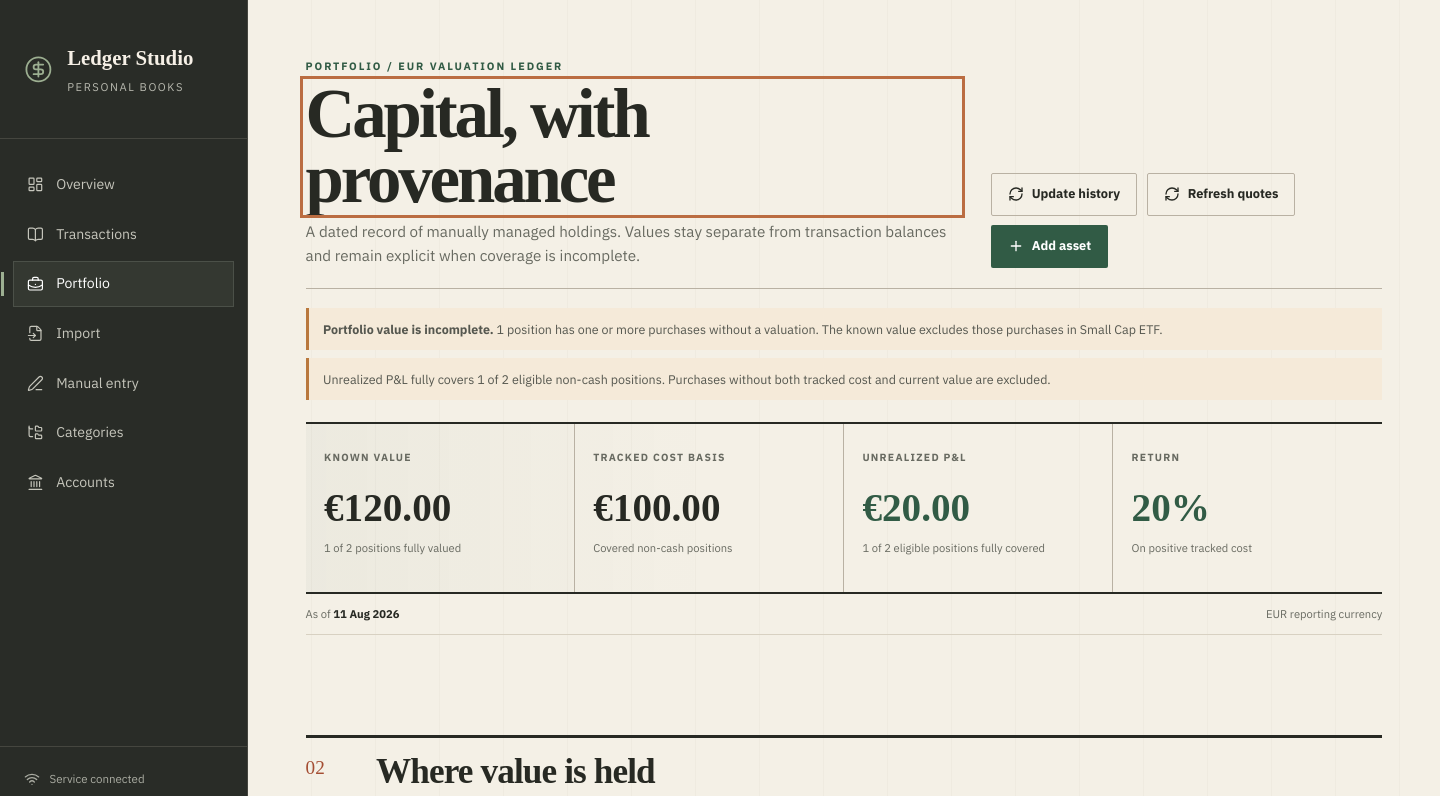
Test case: PortfolioPage › backfills missing monthly history in one signed batch
Check: the heading "Capital, with provenance" is shown, box x1=306 y1=76 x2=648 y2=217
Click the button "Update history" at (1064, 194), box x1=991 y1=173 x2=1137 y2=216
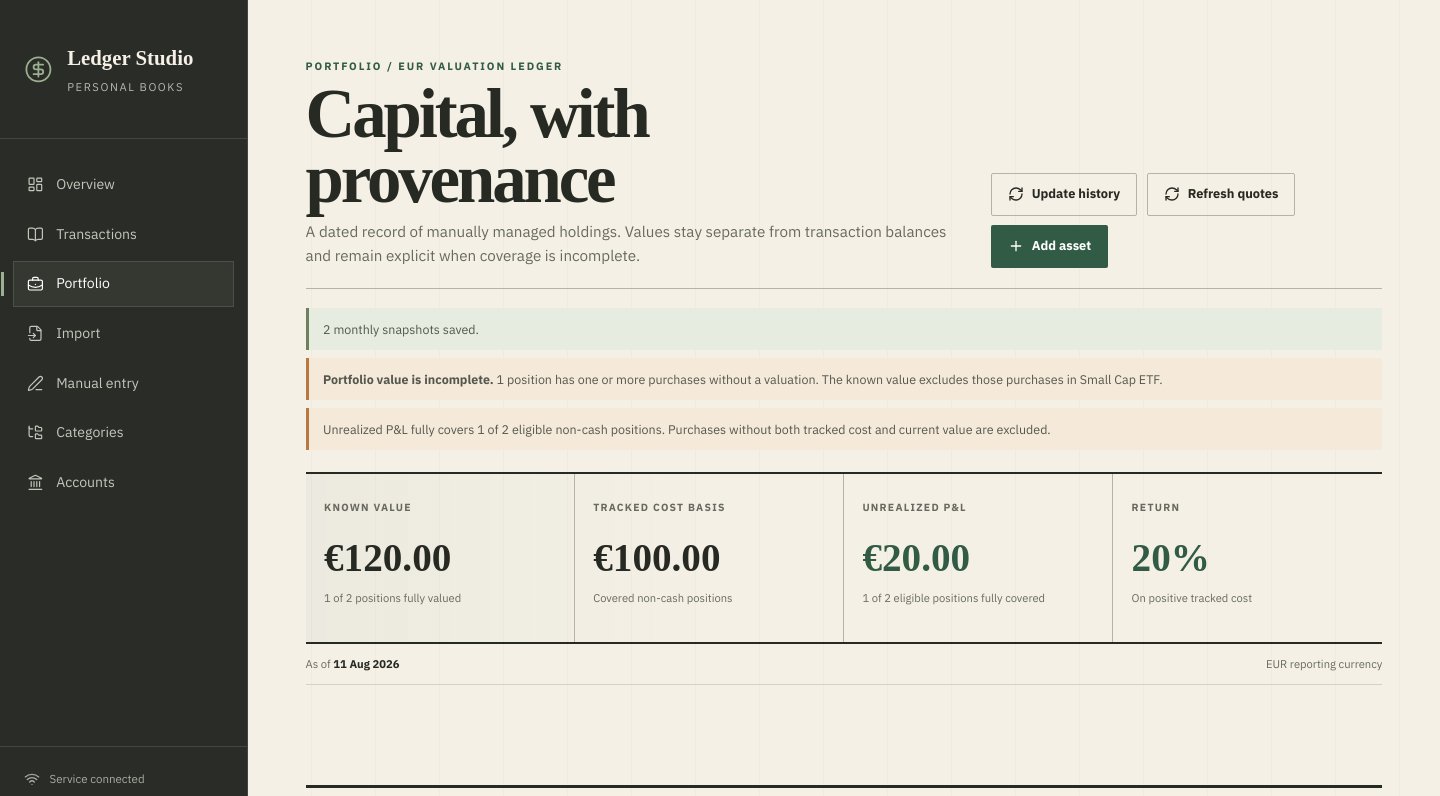
Check: the text "2 monthly snapshots saved." is shown, box x1=306 y1=308 x2=1382 y2=350
